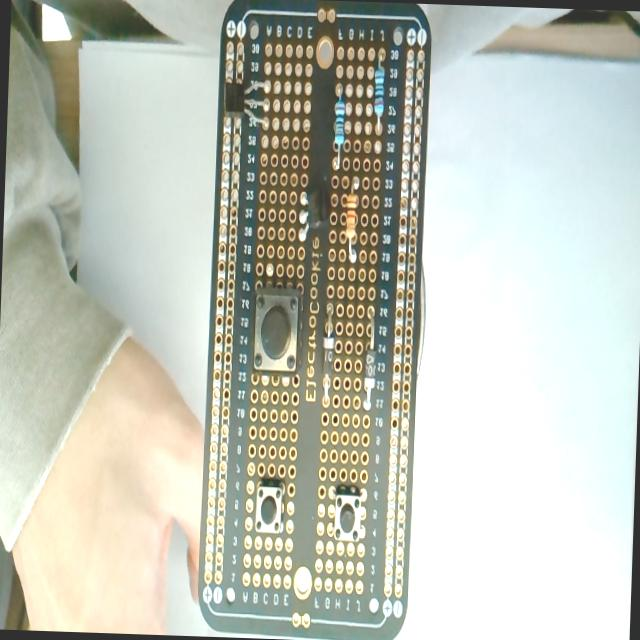diode: (362, 308, 377, 412), (321, 304, 335, 404)
resistor: (343, 190, 359, 264), (332, 89, 346, 170), (372, 64, 385, 130)
switch: (250, 284, 302, 376), (332, 484, 362, 542), (254, 479, 285, 535)
transistor: (221, 75, 271, 127), (297, 164, 325, 248)
